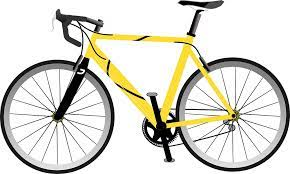bicycle: (1, 1, 289, 174)
